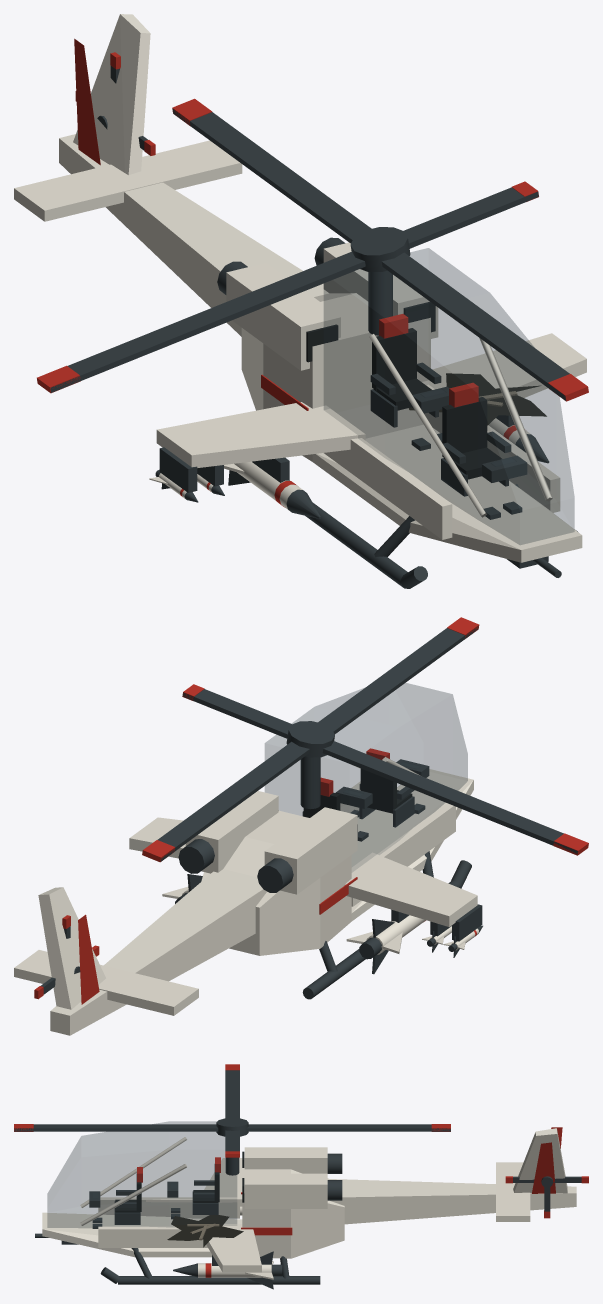
3 views of the same model, one above another, from view 1: azimuth 30°, elevation 25°; view 2: azimuth 150°, elevation 25°; view 3: azimuth 270°, elevation 25° (orthographic). The views are drawn at different scales.
Visible parts, largest first — view 1: helicopter-damaged-fleet-armor, helicopter-damaged-fleet-glass, helicopter-damaged-fleet-machine, blade-arm-2-painted, blade-arm-3-painted, crew-chair-gunner-painted, blade-arm-1-painted, crew-chair-pilot-painted, blade-arm-0-painted, helicopter-damaged-fleet-red, store-left-large-painted, rotor-main-fleet-machine (+2 smaller); view 2: helicopter-damaged-fleet-armor, helicopter-damaged-fleet-glass, helicopter-damaged-fleet-machine, blade-arm-2-painted, blade-arm-1-painted, blade-arm-3-painted, crew-chair-gunner-painted, store-left-large-painted, blade-arm-0-painted, helicopter-damaged-fleet-red, crew-chair-pilot-painted, rotor-main-fleet-machine; view 3: helicopter-damaged-fleet-armor, helicopter-damaged-fleet-glass, helicopter-damaged-fleet-machine, blade-arm-1-painted, blade-arm-3-painted, store-right-large-painted, crew-chair-pilot-painted, helicopter-damaged-fleet-red, crew-chair-gunner-painted, helicopter-damaged-fleet-damage-charred, blade-arm-2-painted, rotor-main-fleet-machine (+1 smaller).
Boxes of the visible parts, bbox=[...] form: helicopter-damaged-fleet-armor: bbox=[14, 14, 586, 562]; helicopter-damaged-fleet-glass: bbox=[324, 248, 574, 544]; helicopter-damaged-fleet-machine: bbox=[159, 237, 577, 588]; blade-arm-2-painted: bbox=[37, 251, 365, 393]; blade-arm-3-painted: bbox=[381, 252, 588, 401]; crew-chair-gunner-painted: bbox=[441, 382, 527, 519]; blade-arm-1-painted: bbox=[172, 98, 371, 243]; crew-chair-pilot-painted: bbox=[370, 314, 449, 450]; blade-arm-0-painted: bbox=[403, 181, 538, 248]; helicopter-damaged-fleet-red: bbox=[74, 38, 308, 410]; store-left-large-painted: bbox=[224, 461, 321, 518]; rotor-main-fleet-machine: bbox=[350, 227, 410, 271]; helicopter-damaged-fleet-armor: bbox=[14, 757, 477, 1035]; helicopter-damaged-fleet-glass: bbox=[265, 683, 467, 871]; helicopter-damaged-fleet-machine: bbox=[178, 756, 482, 999]; blade-arm-2-painted: bbox=[322, 741, 588, 855]; blade-arm-1-painted: bbox=[142, 741, 309, 862]; blade-arm-3-painted: bbox=[318, 617, 479, 734]; crew-chair-gunner-painted: bbox=[359, 748, 429, 827]; store-left-large-painted: bbox=[346, 915, 425, 974]; blade-arm-0-painted: bbox=[182, 684, 291, 738]; helicopter-damaged-fleet-red: bbox=[78, 877, 357, 1004]; crew-chair-pilot-painted: bbox=[302, 777, 372, 841]; rotor-main-fleet-machine: bbox=[286, 721, 334, 757]; helicopter-damaged-fleet-armor: bbox=[42, 1128, 576, 1272]; helicopter-damaged-fleet-glass: bbox=[47, 1121, 236, 1227]; helicopter-damaged-fleet-machine: bbox=[100, 1153, 342, 1284]; blade-arm-1-painted: bbox=[246, 1124, 450, 1131]; blade-arm-3-painted: bbox=[14, 1124, 218, 1131]; store-right-large-painted: bbox=[173, 1251, 282, 1289]; crew-chair-pilot-painted: bbox=[167, 1157, 220, 1219]; helicopter-damaged-fleet-red: bbox=[241, 1127, 562, 1235]; crew-chair-gunner-painted: bbox=[89, 1167, 142, 1228]; helicopter-damaged-fleet-damage-charred: bbox=[167, 1215, 243, 1247]; blade-arm-2-painted: bbox=[225, 1064, 239, 1118]; rotor-main-fleet-machine: bbox=[216, 1118, 248, 1136].
Size of the model in its own units: 39.59 by 19.2 by 66.32.
